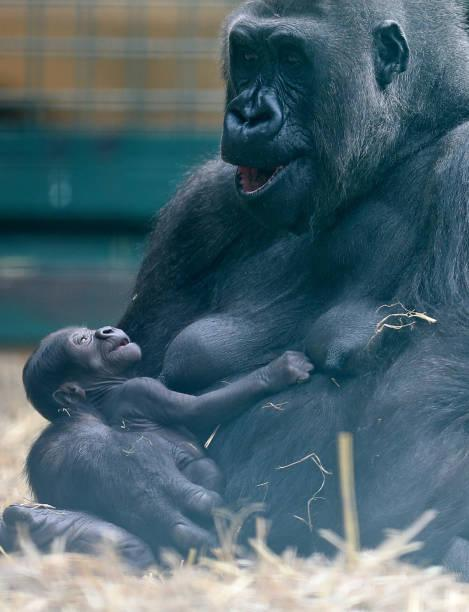gorille_Autres: (3, 0, 452, 536), (21, 315, 261, 513)
